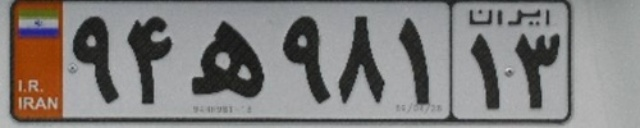1: (394, 16, 432, 106), (469, 32, 503, 109)
3: (515, 31, 559, 109)
4: (124, 15, 177, 104)
8: (341, 14, 386, 102)
9: (70, 15, 120, 103), (282, 14, 332, 102)
he: (190, 19, 265, 99)
